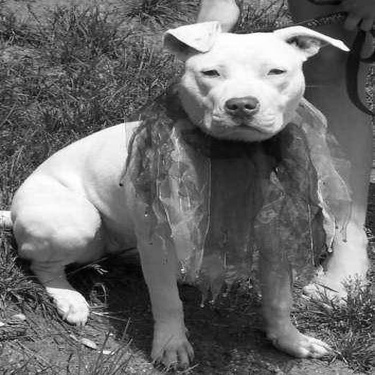dog: (1, 12, 353, 371)
